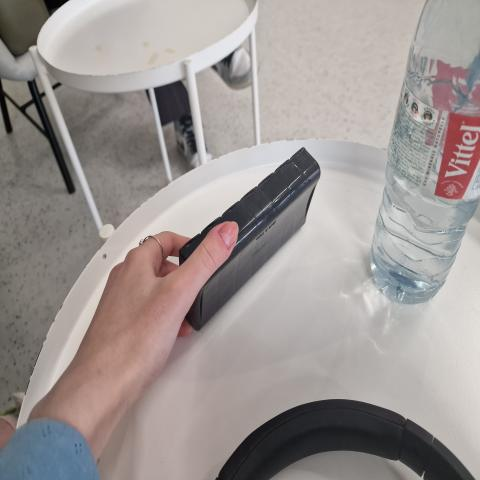Pill-box: (151, 147, 341, 348)
